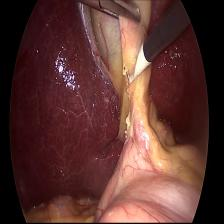Grasper: (72, 0, 145, 22)
Hook: (125, 42, 147, 94)
